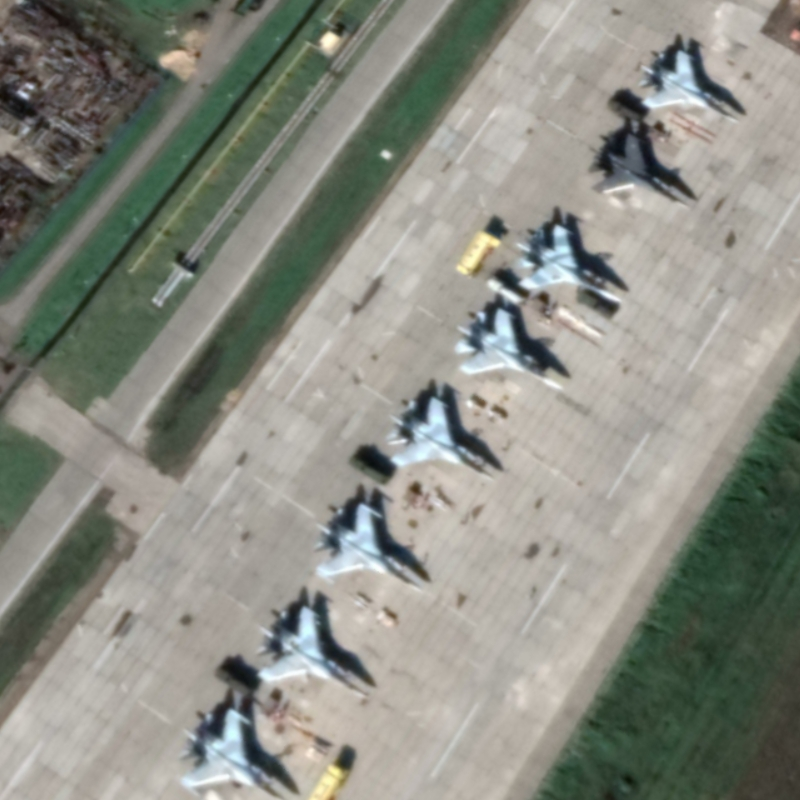A1: (254, 604, 373, 702), (310, 501, 427, 596), (177, 706, 291, 800), (383, 394, 499, 483), (453, 306, 568, 393), (512, 220, 625, 306), (636, 48, 745, 126), (594, 132, 692, 212)
